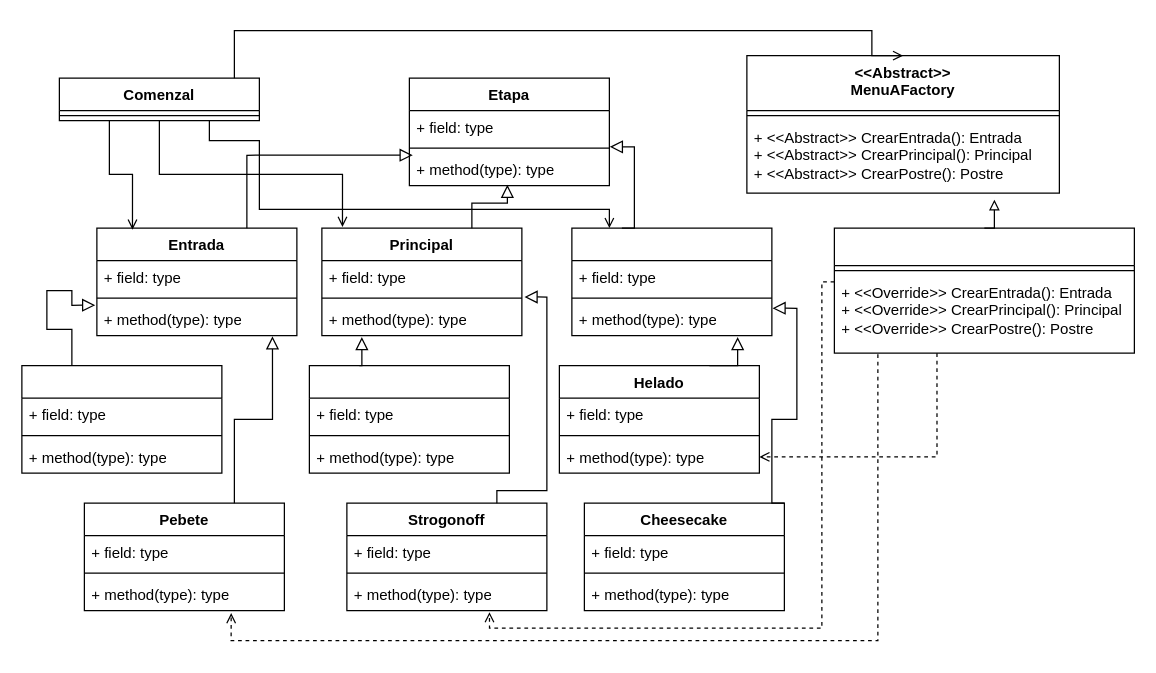
The diagram is 1156 pixels wide and 673 high, and some of its shapes have lost their labels. Here are the shapes that lost their labels. From the top down, the box of each, then its label:
(571, 227, 772, 336): Postre
(833, 227, 1134, 353): AbuelaFactory
(21, 364, 222, 473): CanapeChorizo
(308, 364, 509, 473): PatoNaranja
